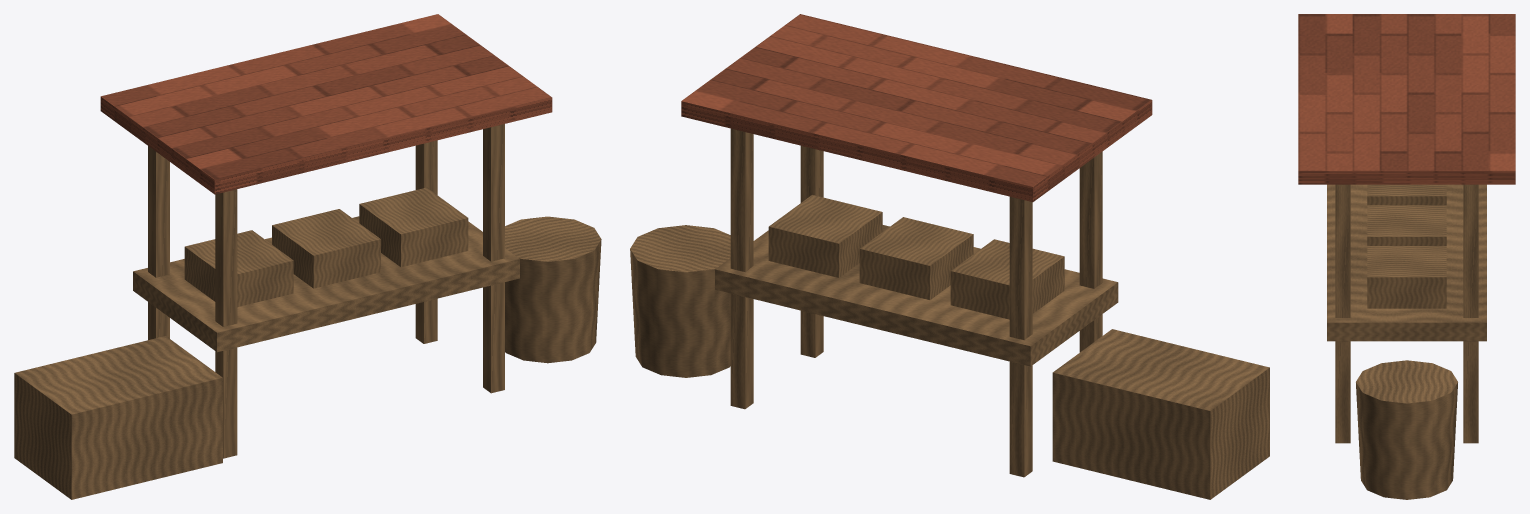
The picture shows the model from 3 angles, left to right: view 1: azimuth 30°, elevation 25°; view 2: azimuth 150°, elevation 25°; view 3: azimuth 270°, elevation 25°; orthographic projection. The views are drawn at different scales.
Parts seen in each view (by area): view 1: market-wood, market-roof; view 2: market-wood, market-roof; view 3: market-wood, market-roof.
Part boxes in pixels (x1=…): market-wood: x1=14, y1=124, x2=601, y2=499; market-roof: x1=100, y1=14, x2=552, y2=194; market-wood: x1=630, y1=128, x2=1269, y2=499; market-roof: x1=681, y1=14, x2=1152, y2=201; market-wood: x1=1327, y1=184, x2=1486, y2=499; market-roof: x1=1298, y1=14, x2=1515, y2=184.
Bounding box in the file's own units: 4.85 × 2.46 × 1.7.
Materials: 2 (2 with a texture image).
